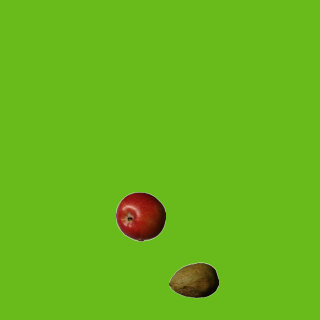Apple Braeburn: (115, 191, 165, 241)
Papaya: (168, 255, 218, 305)
